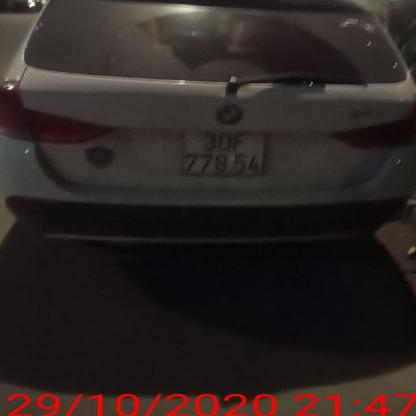biensoxe: (178, 120, 280, 184)
